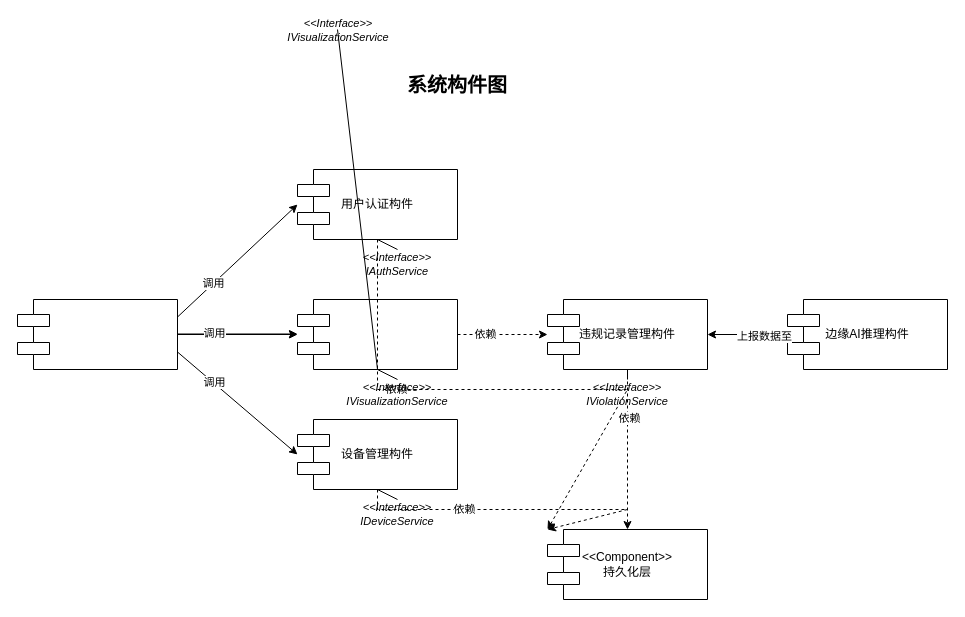
Image size: 965x617. Some labels were removed from this diagram. Each missing label, with the centre of its shape:
"Web前端应用 (Vue 3)" goes at (97,334).
"数据可视化构件" goes at (377,334).
